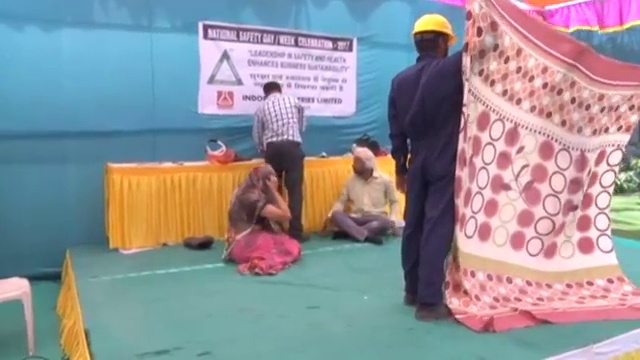helmet: (411, 11, 457, 46)
helmet_off: (246, 160, 279, 193), (350, 145, 375, 178), (261, 78, 284, 99)
helmet_on: (410, 11, 457, 66)
person: (385, 13, 458, 320), (250, 78, 311, 243), (227, 160, 302, 279), (326, 146, 399, 247)
